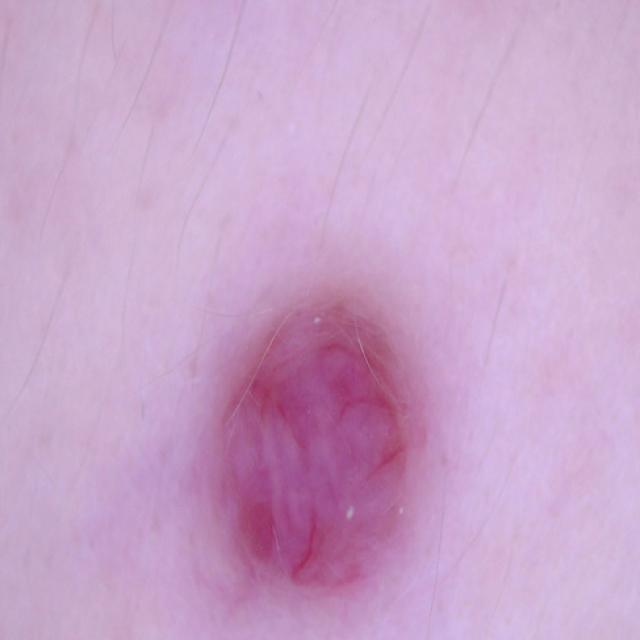Vascular Lesions: (202, 266, 485, 622)
